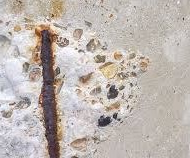Exposed reinforcement: (40, 29, 61, 158)
Spalling: (1, 17, 150, 158)
